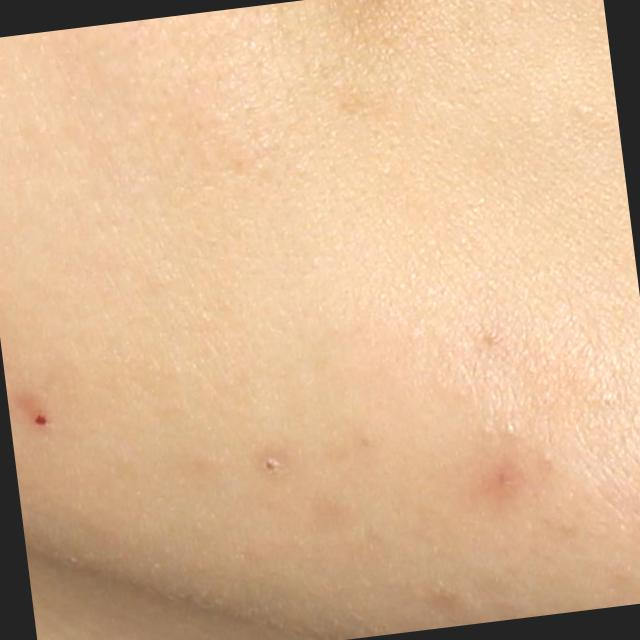blackhead: (265, 458, 278, 472)
